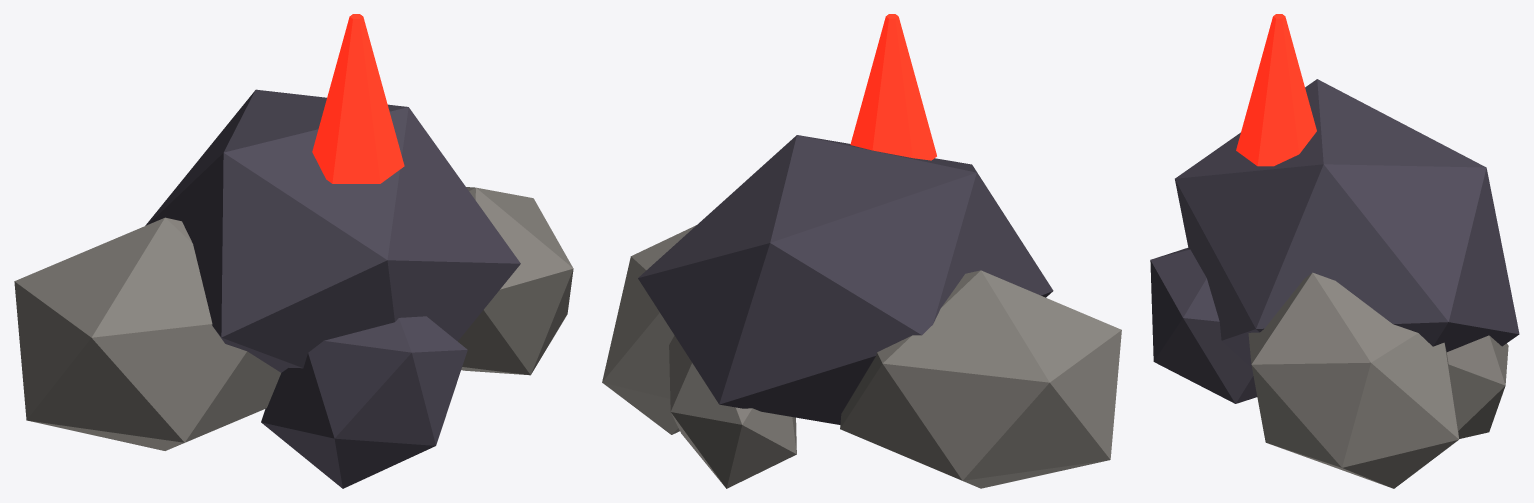
File: rock_pile.glb
3 views of the same model, side by side, from view 1: azimuth 30°, elevation 25°; view 2: azimuth 150°, elevation 25°; view 3: azimuth 270°, elevation 25° (orthographic). The views are drawn at different scales.
Parts seen in each view (by area): view 1: GEO_stonedark, GEO_stone, GEO_hazard; view 2: GEO_stonedark, GEO_stone, GEO_hazard; view 3: GEO_stonedark, GEO_stone, GEO_hazard.
Part boxes in pixels (left/top/right/bottom): GEO_stonedark: left=145, top=89, right=520, bottom=488; GEO_stone: left=14, top=187, right=573, bottom=450; GEO_hazard: left=312, top=14, right=404, bottom=183; GEO_stonedark: left=638, top=135, right=1053, bottom=424; GEO_stone: left=602, top=225, right=1121, bottom=488; GEO_hazard: left=850, top=14, right=936, bottom=160; GEO_stonedark: left=1150, top=79, right=1519, bottom=403; GEO_stone: left=1248, top=272, right=1508, bottom=488; GEO_hazard: left=1236, top=14, right=1316, bottom=166.
Bounding box in the file's own units: 1.77 × 1.43 × 1.2.
